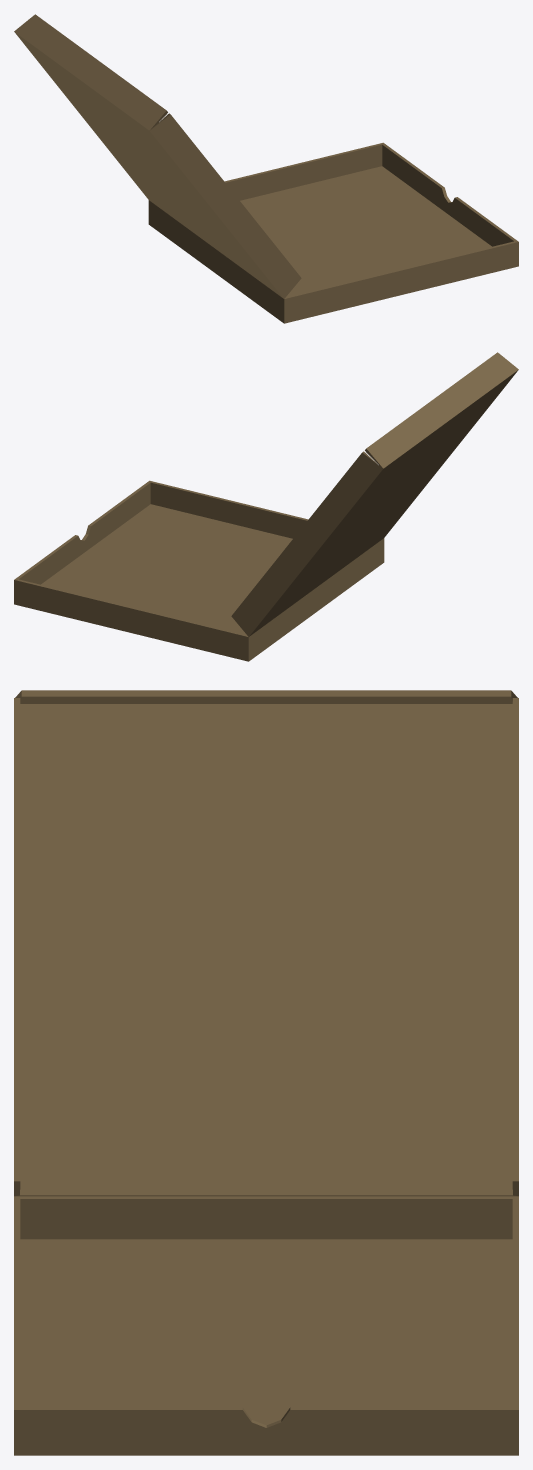
The model's file is SM_Props_Interior_SuperMarket_Item_Food_Pack_02.fbx.
3 renders of one model, top to bottom at view 1: azimuth 30°, elevation 25°; view 2: azimuth 150°, elevation 25°; view 3: azimuth 270°, elevation 25°, orthographic. The views are drawn at different scales.
Parts seen in each view (by area): view 1: SM_Props_Interior_SuperMarket_Item_Food_Pack_02; view 2: SM_Props_Interior_SuperMarket_Item_Food_Pack_02; view 3: SM_Props_Interior_SuperMarket_Item_Food_Pack_02.
Boxes of the visible parts, x1,y1,x2,y2 form: SM_Props_Interior_SuperMarket_Item_Food_Pack_02: [14, 14, 518, 323]; SM_Props_Interior_SuperMarket_Item_Food_Pack_02: [14, 352, 518, 661]; SM_Props_Interior_SuperMarket_Item_Food_Pack_02: [14, 690, 518, 1455].
Bounding box in the file's own units: 45.32 × 28.12 × 28.8.
